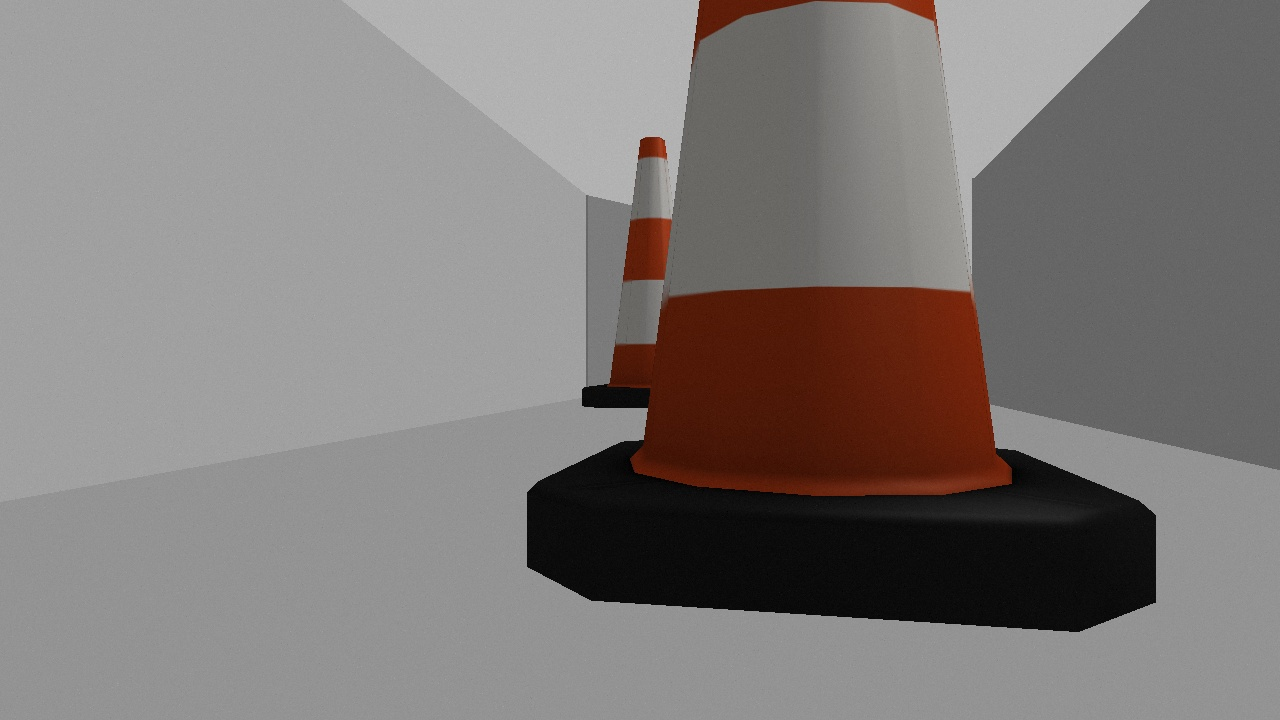barricade: (507, 1, 1179, 647), (563, 130, 718, 411)
